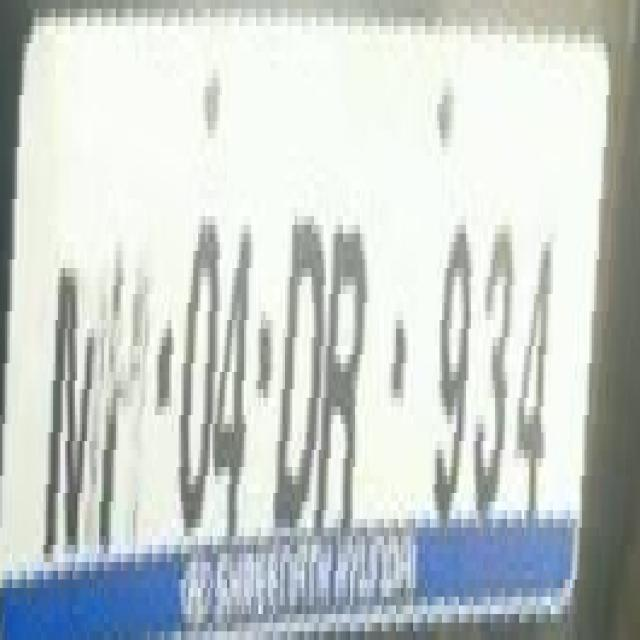license_plate: (2, 0, 599, 614)
